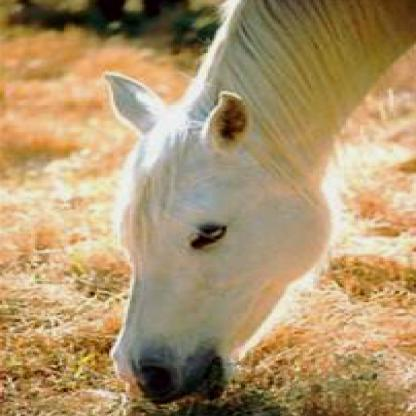horse: (103, 0, 414, 408)
